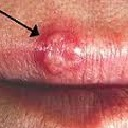Cold Sore: (42, 31, 75, 72)
